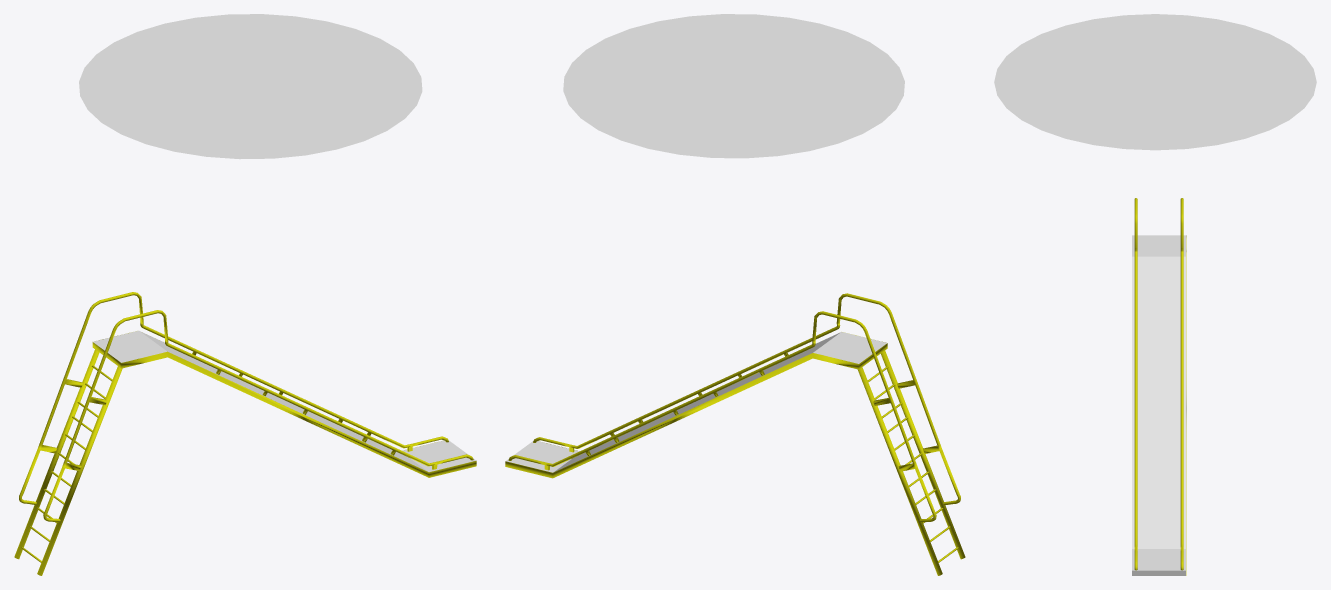
3 renders of one model, left to right at view 1: azimuth 30°, elevation 25°; view 2: azimuth 150°, elevation 25°; view 3: azimuth 270°, elevation 25°, orthographic. The views are drawn at different scales.
Visible parts, largest first — view 1: Circle, ZOOLA SLIDE.001, SLIDE; view 2: Circle, ZOOLA SLIDE.001, SLIDE; view 3: Circle, SLIDE, ZOOLA SLIDE.001.
Part boxes in pixels (left/top/right/bottom): Circle: left=79, top=14, right=422, bottom=159; ZOOLA SLIDE.001: left=14, top=292, right=476, bottom=575; SLIDE: left=93, top=330, right=476, bottom=471; Circle: left=563, top=14, right=904, bottom=158; ZOOLA SLIDE.001: left=505, top=293, right=965, bottom=575; SLIDE: left=506, top=332, right=886, bottom=472; Circle: left=994, top=14, right=1316, bottom=150; SLIDE: left=1132, top=235, right=1185, bottom=575; ZOOLA SLIDE.001: left=1134, top=198, right=1186, bottom=575.
Size of what is drawn, in the model's own units: 960 by 902 by 657.
